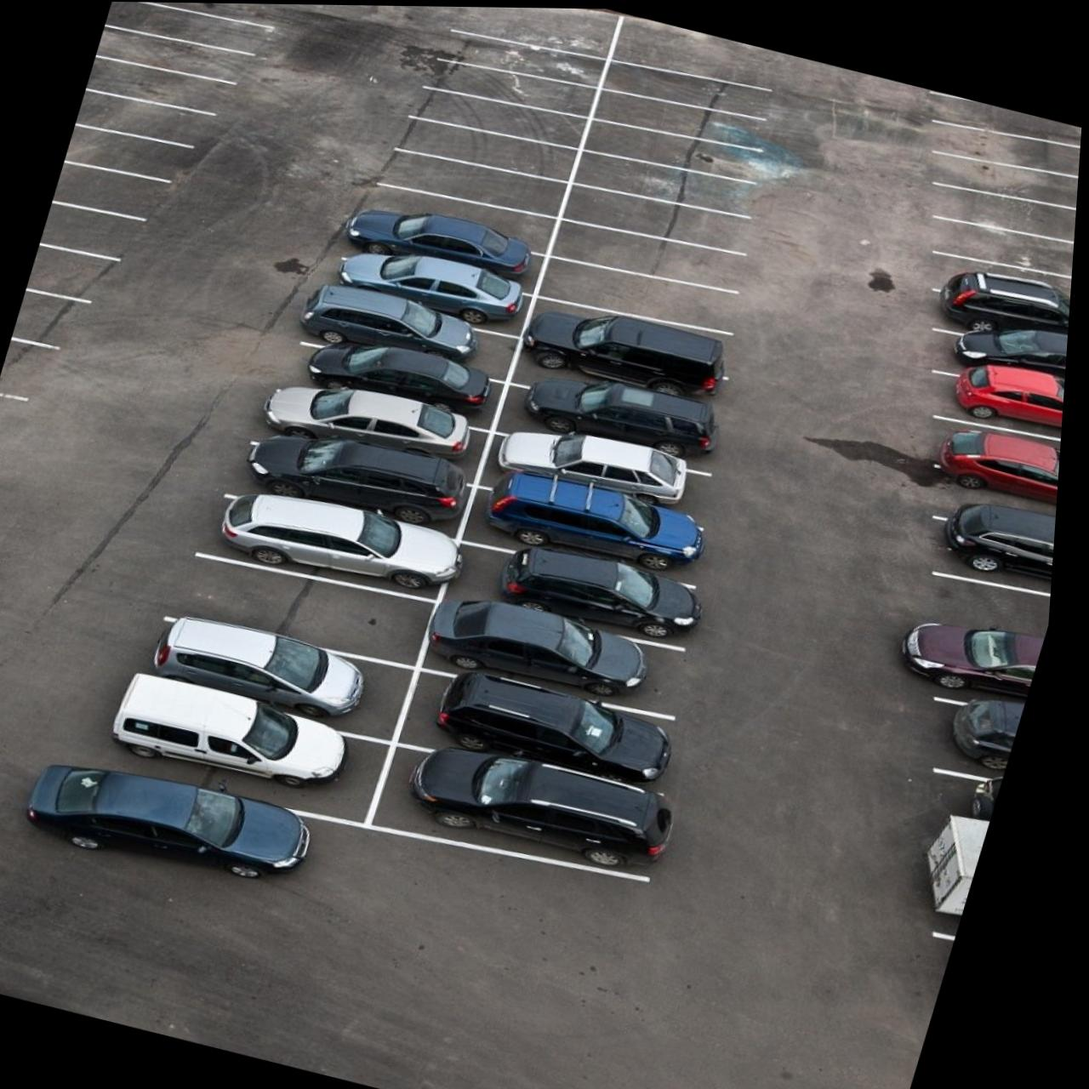cars: (388, 654, 675, 801), (97, 678, 391, 820), (364, 745, 659, 883), (423, 588, 695, 721), (142, 608, 415, 734), (444, 529, 705, 650), (194, 478, 455, 599), (464, 467, 709, 595), (221, 418, 482, 534), (237, 358, 483, 466), (490, 420, 727, 530), (278, 324, 527, 425), (278, 286, 529, 385), (497, 379, 731, 481), (315, 238, 545, 339), (519, 324, 736, 420), (336, 201, 553, 297), (892, 611, 1045, 713), (927, 295, 1070, 398), (937, 347, 1067, 455), (912, 555, 1053, 646), (937, 269, 1072, 362), (918, 514, 1056, 600), (935, 466, 1059, 550), (934, 416, 1062, 497)
empty: (150, 541, 446, 668), (530, 242, 752, 344), (523, 286, 743, 378), (553, 209, 763, 303), (354, 136, 572, 219), (561, 139, 763, 223), (376, 103, 578, 186), (350, 166, 559, 245), (555, 176, 761, 256), (578, 110, 762, 190), (928, 199, 1077, 296), (599, 49, 772, 127), (583, 83, 757, 156), (414, 49, 595, 119), (607, 17, 778, 88), (934, 114, 1082, 193), (443, 21, 606, 89), (425, 85, 590, 151), (947, 174, 1078, 252), (945, 146, 1080, 219), (942, 96, 1084, 164), (945, 247, 1073, 322), (94, 19, 235, 84), (104, 2, 264, 56), (84, 55, 222, 117), (461, 7, 614, 55), (62, 129, 179, 188), (75, 88, 183, 143), (51, 160, 143, 221), (110, 2, 280, 35)
